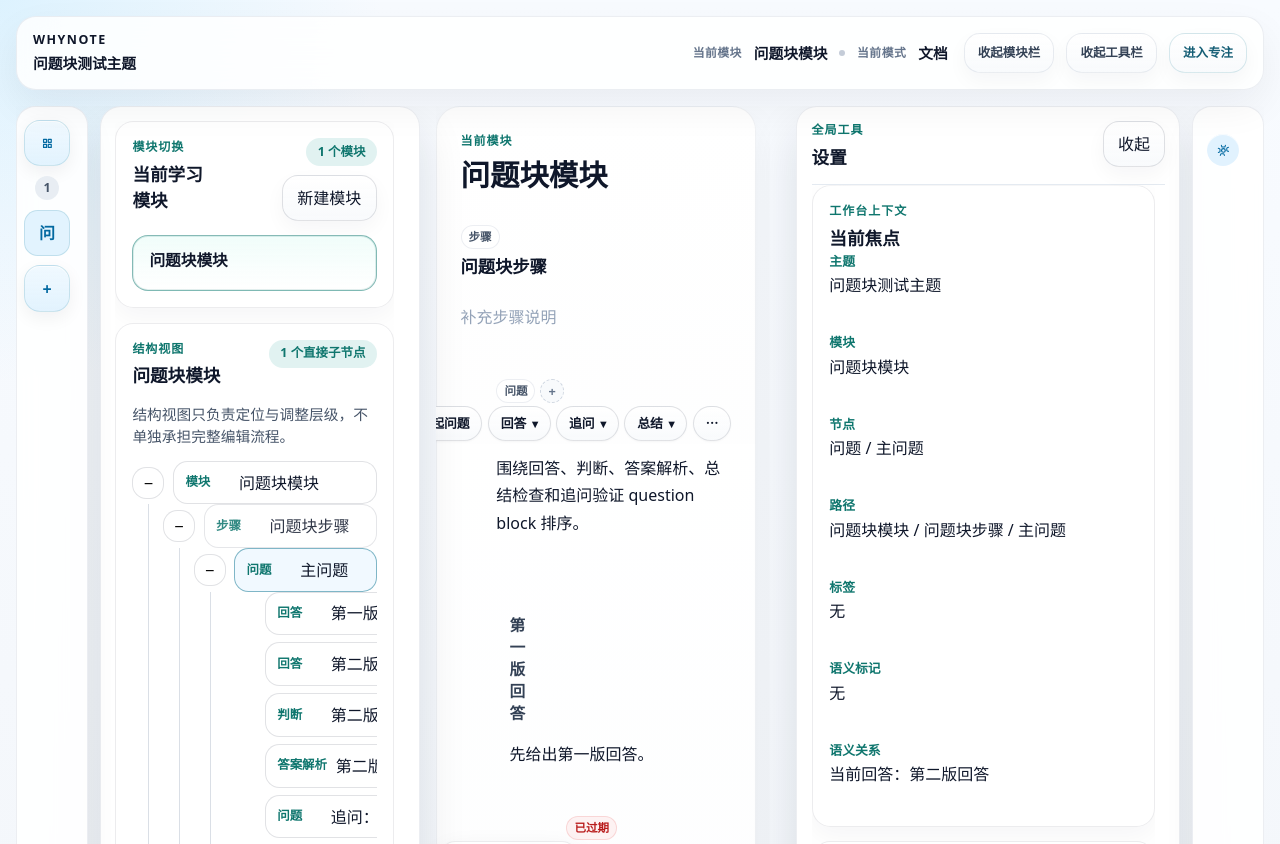
does not render visible 已选中 or 编辑中 chips on the main surface
Click the button with test id "editor-node-content-display-answer-first" at [615, 755], box [504,737,726,773]
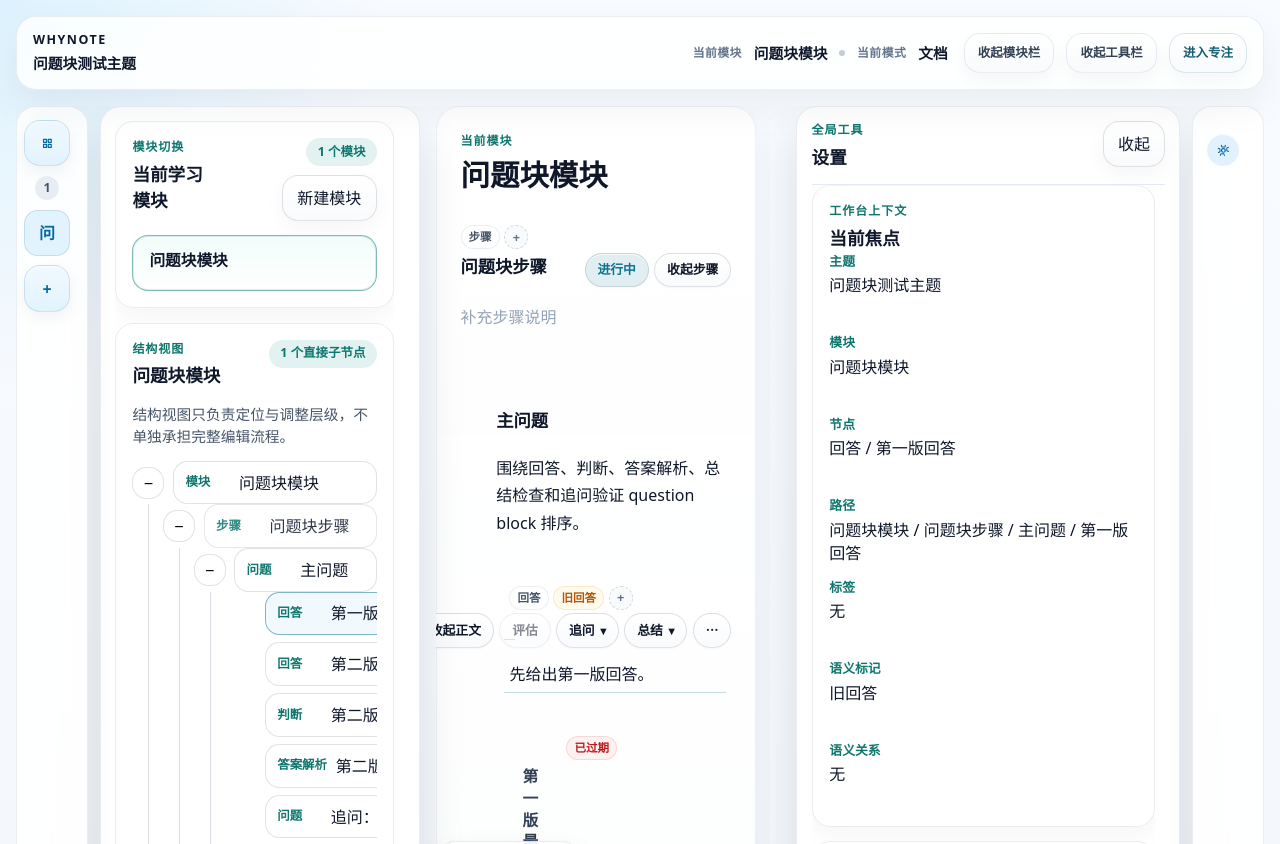
Result: the text box named "第一版回答 内容" is shown at [504,658,726,693]
